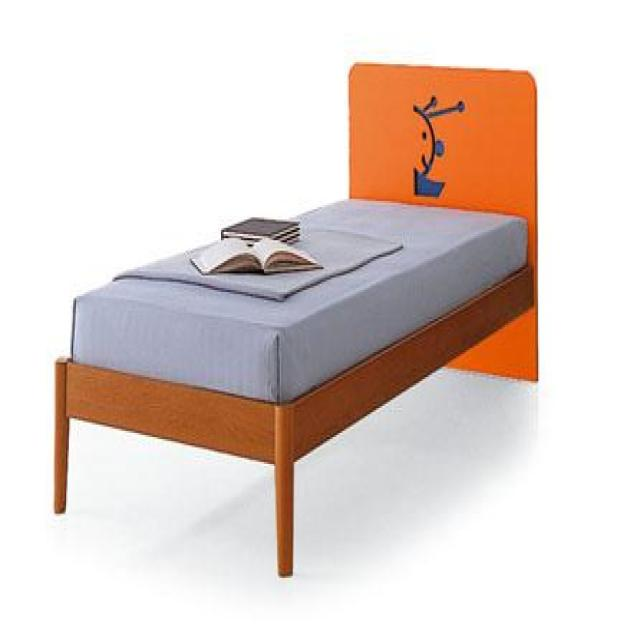bed: (52, 60, 538, 578)
